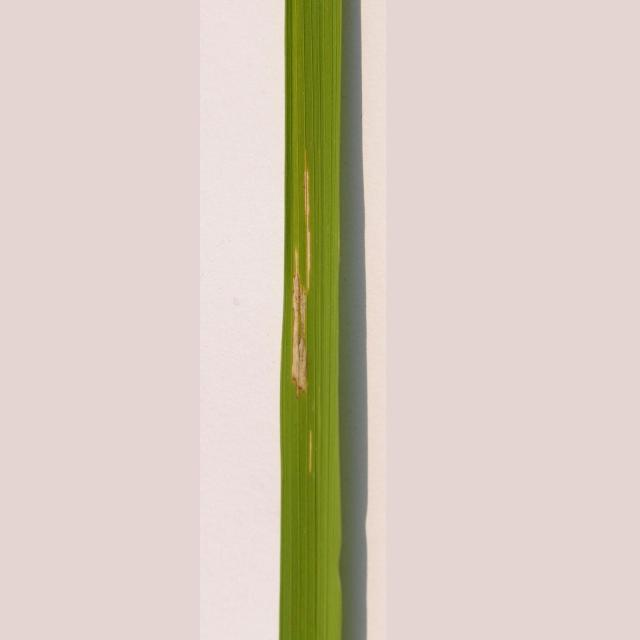leaf blight: (283, 155, 337, 477)
